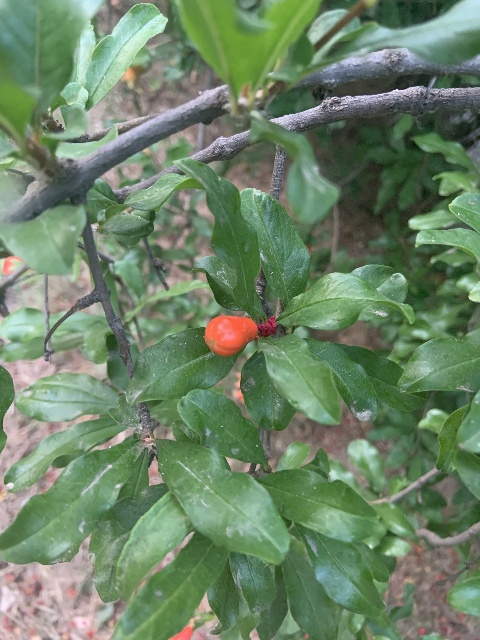bud: (204, 314, 257, 356)
